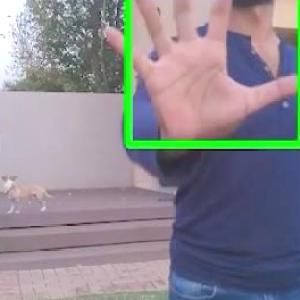follow_hand: (93, 0, 299, 149)
